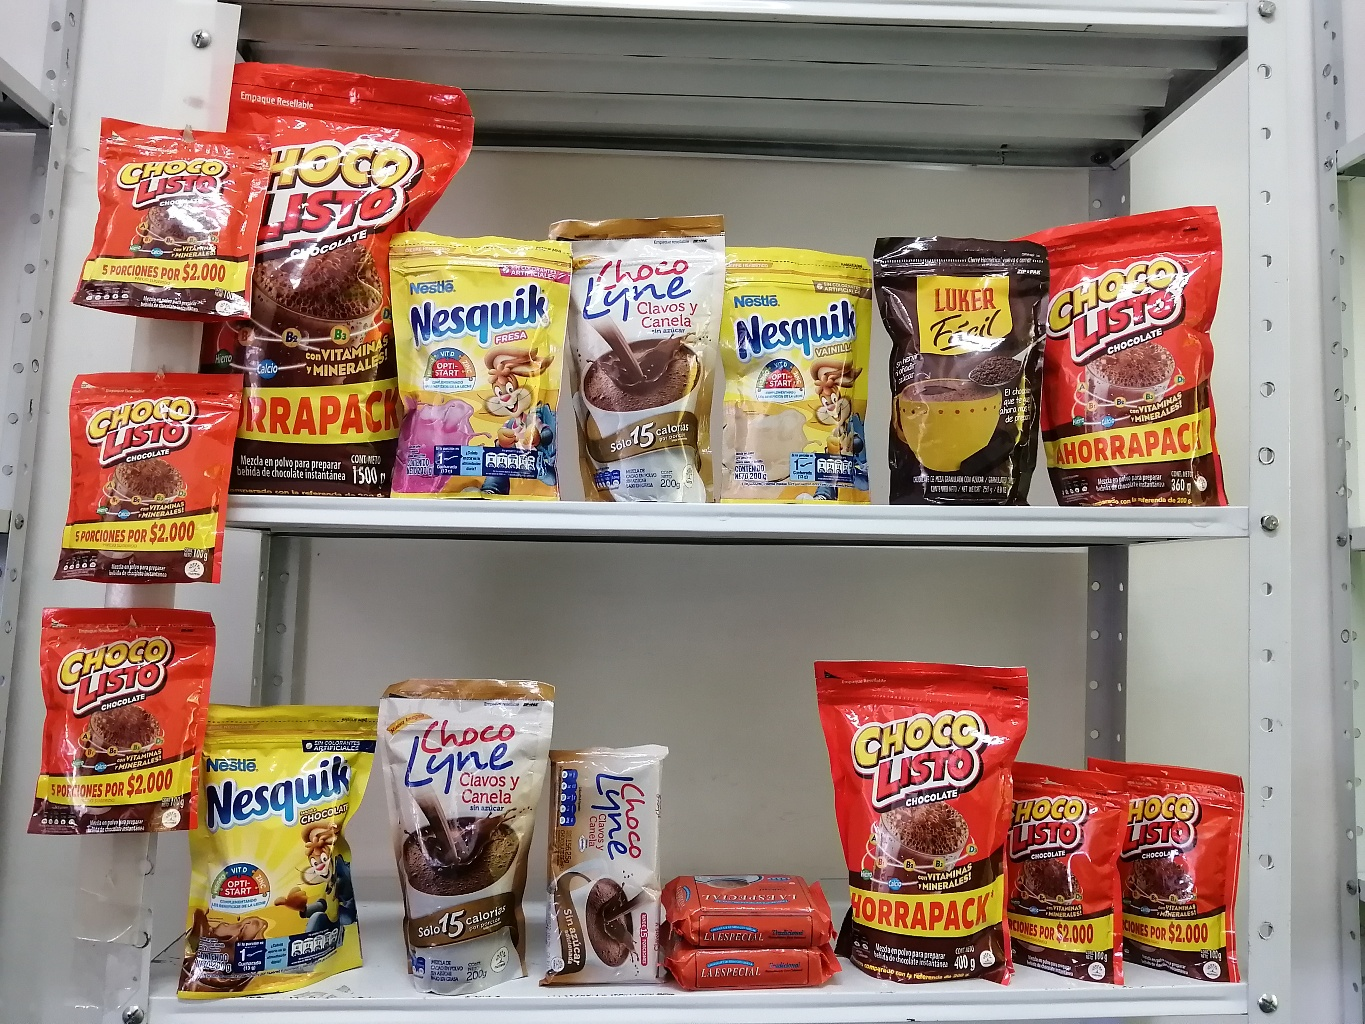COL0170103DYP1,500: (210, 63, 470, 499)
COL0170103DYP10000: (1085, 743, 1241, 973)
COL0170103DYP36000: (1020, 202, 1229, 512)
COL0170103DYP40000: (816, 641, 1013, 987)
COL0170303DYP20000: (193, 701, 388, 1002)
COL0170305DYP20000: (390, 224, 565, 504)
COL0170306DYP20000: (712, 232, 880, 499)
